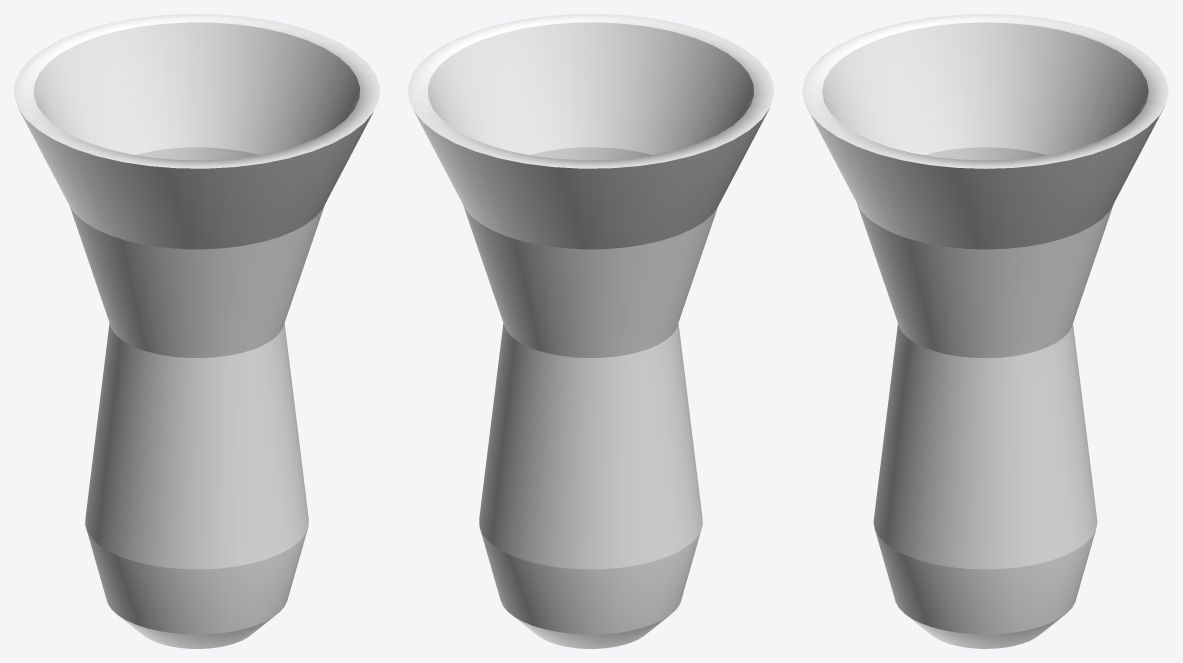
The model's file is Vase5.fbx.
3 renders of one model, left to right at view 1: azimuth 30°, elevation 25°; view 2: azimuth 150°, elevation 25°; view 3: azimuth 270°, elevation 25°, orthographic.
Visible parts, largest first — view 1: polySurface14, polySurface12, polySurface21, polySurface23, polySurface5, polySurface2, polySurface17, polySurface15, polySurface11; view 2: polySurface2, polySurface23, polySurface21, polySurface12, polySurface10, polySurface14, polySurface7, polySurface17; view 3: polySurface10, polySurface21, polySurface23, polySurface15, polySurface14, polySurface17, polySurface7, polySurface11, polySurface5.
Part boxes in pixels (x1=…): polySurface14: x1=74, y1=142, x2=305, y2=569; polySurface12: x1=70, y1=207, x2=187, y2=569; polySurface21: x1=205, y1=14, x2=379, y2=340; polySurface23: x1=14, y1=14, x2=215, y2=234; polySurface5: x1=168, y1=548, x2=290, y2=647; polySurface2: x1=85, y1=323, x2=229, y2=648; polySurface17: x1=270, y1=331, x2=307, y2=616; polySurface15: x1=281, y1=205, x2=324, y2=533; polySurface11: x1=136, y1=147, x2=258, y2=160; polySurface2: x1=535, y1=349, x2=701, y2=646; polySurface23: x1=424, y1=105, x2=769, y2=357; polySurface21: x1=408, y1=14, x2=744, y2=216; polySurface12: x1=613, y1=207, x2=717, y2=556; polySurface10: x1=463, y1=205, x2=551, y2=642; polySurface14: x1=529, y1=38, x2=773, y2=160; polySurface7: x1=507, y1=346, x2=547, y2=629; polySurface17: x1=558, y1=631, x2=627, y2=648; polySurface10: x1=951, y1=204, x2=1113, y2=648; polySurface21: x1=802, y1=56, x2=1133, y2=346; polySurface23: x1=929, y1=14, x2=1168, y2=226; polySurface15: x1=893, y1=233, x2=971, y2=568; polySurface14: x1=822, y1=18, x2=950, y2=542; polySurface17: x1=885, y1=338, x2=966, y2=647; polySurface7: x1=1068, y1=324, x2=1097, y2=607; polySurface11: x1=924, y1=147, x2=1046, y2=160; polySurface5: x1=875, y1=530, x2=941, y2=640.
Size of the model in its own units: 2.5 by 4.01 by 2.5.
1 material, 1 textured.
